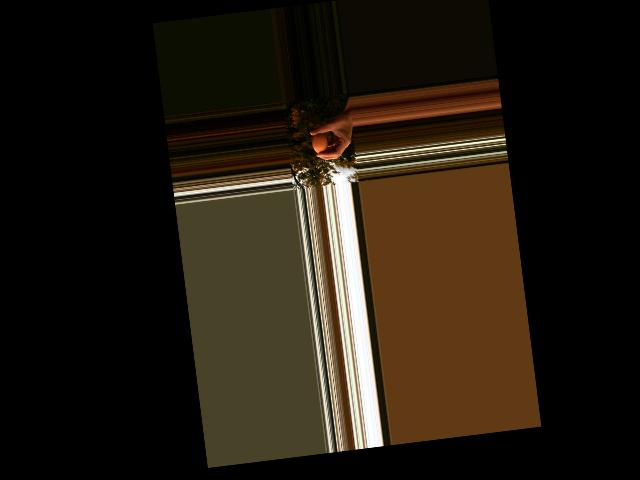egg: (311, 132, 328, 154)
